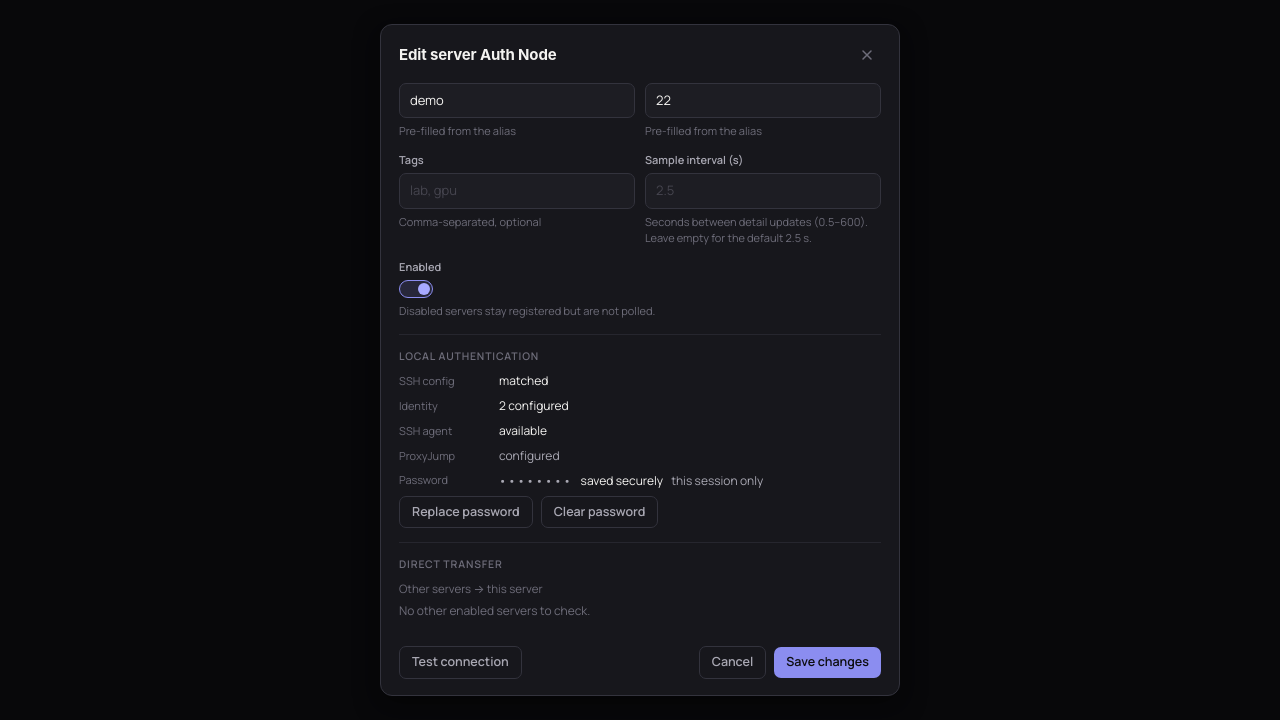
it: ServerDialog password credential flow › shows the CLEAR failure prefix when the clear request fails
(page scrolled)
Expected: the text "this session only" is shown, left=671, top=472, right=763, bottom=490
Step 1. Click the button "Clear password" → point(600, 512), box left=541, top=496, right=658, bottom=528
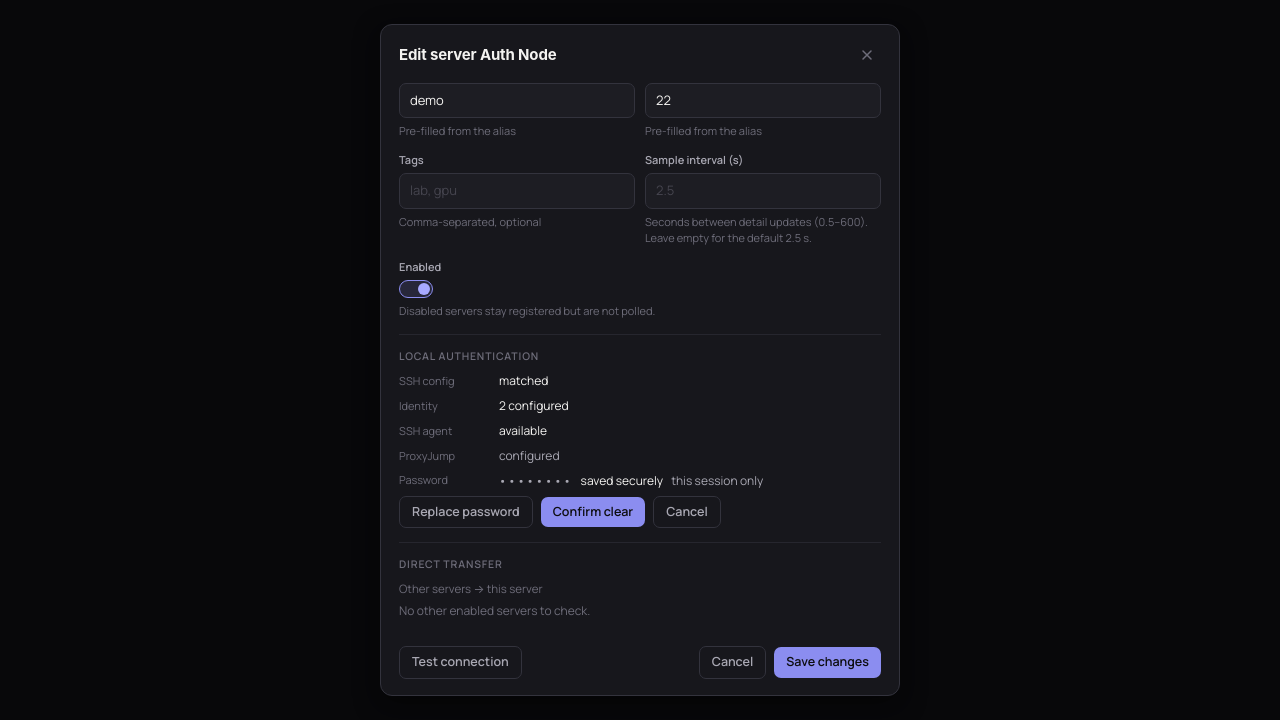
Step 2. Click the button "Confirm clear" → point(593, 512), box left=541, top=496, right=645, bottom=527
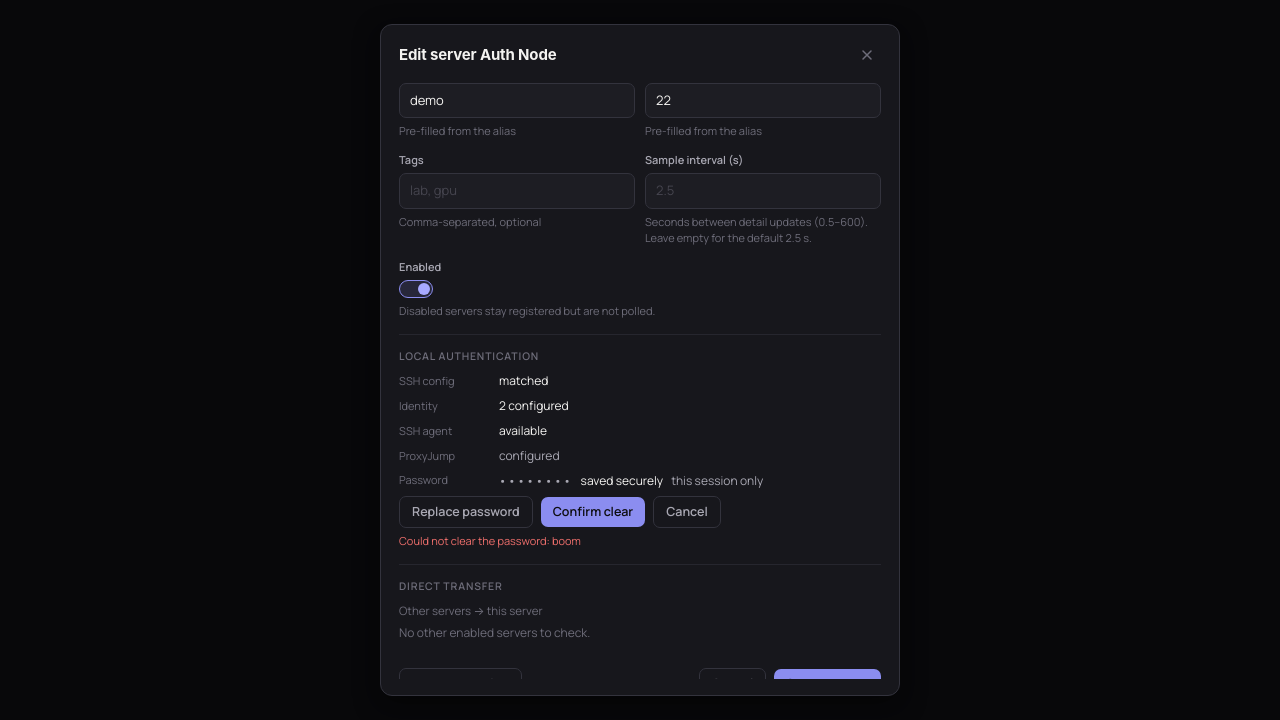
Now the text "Could not clear the password: boom" is shown, box left=399, top=533, right=581, bottom=548
